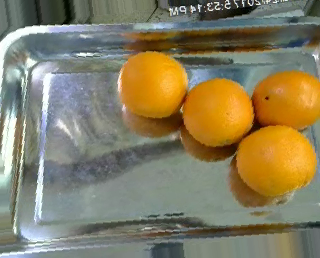Orange: (235, 125, 316, 196), (115, 49, 188, 118), (183, 78, 254, 147), (252, 70, 320, 132)
